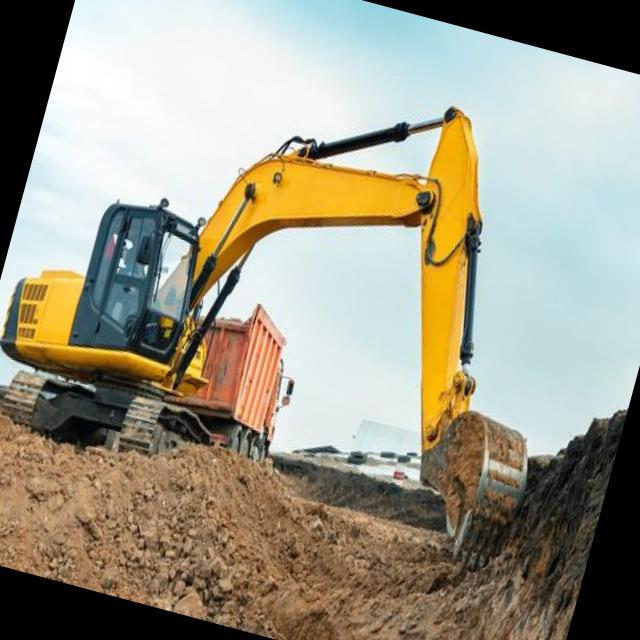red-sand: (0, 404, 627, 640)
